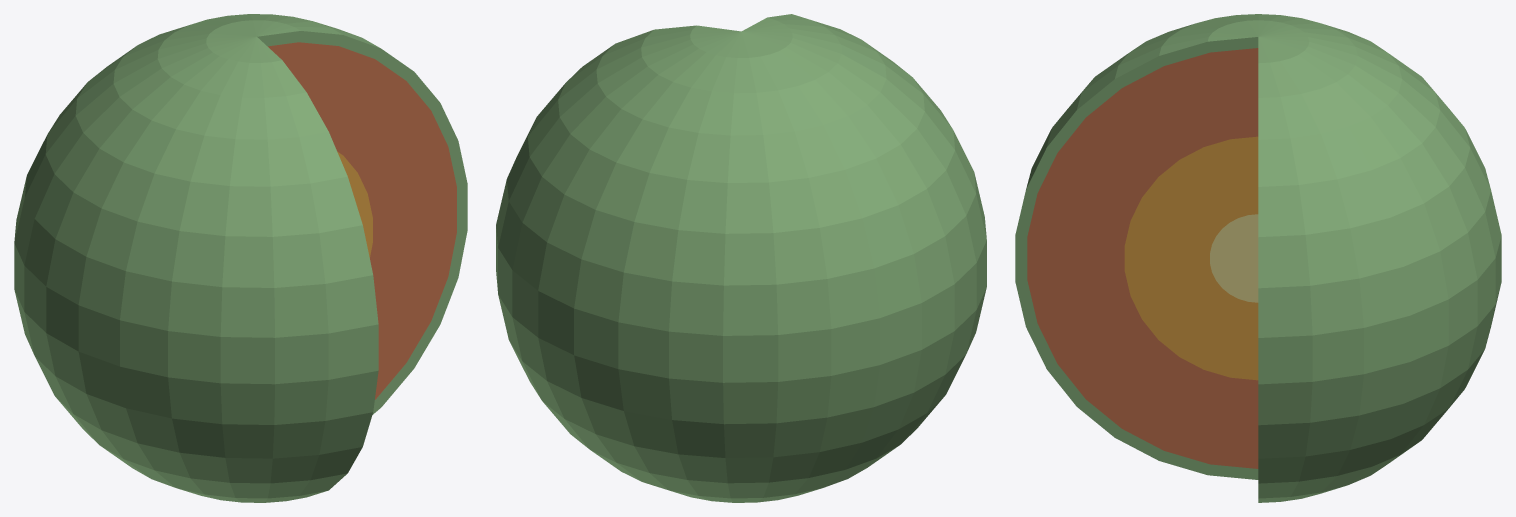
The model's file is earth_cutaway.glb.
The picture shows the model from 3 angles, left to right: view 1: azimuth 30°, elevation 25°; view 2: azimuth 150°, elevation 25°; view 3: azimuth 270°, elevation 25°; orthographic projection.
Size of the model in its own units: 1.99 by 2 by 1.99.
